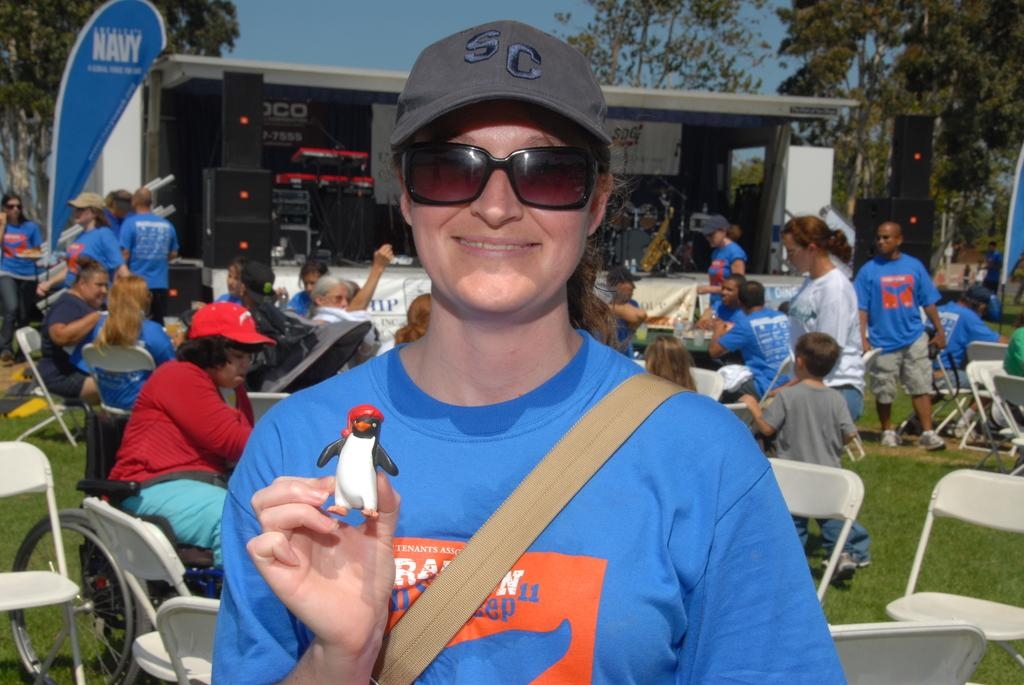Hat: (390, 17, 610, 151), (189, 298, 275, 348), (698, 212, 732, 237), (604, 266, 640, 288), (68, 192, 104, 208)
